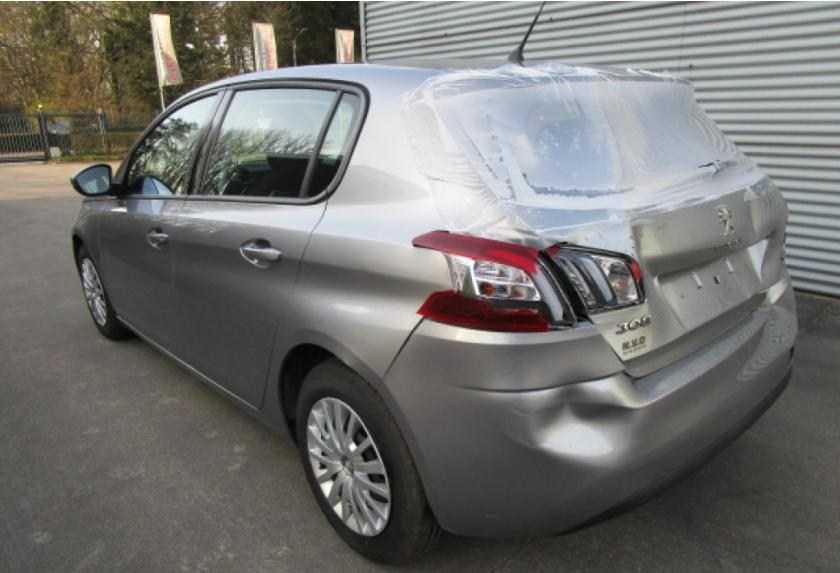Back-bumper: (377, 246, 797, 539)
Back-door: (172, 77, 371, 411)
Back-wheel: (296, 356, 451, 562)
Back-window: (202, 88, 337, 197), (308, 93, 361, 196)
Back-windshield: (432, 75, 765, 230)
Fender: (70, 195, 120, 315)
Front-door: (97, 84, 230, 354)
Front-wheel: (78, 242, 138, 341)
Front-window: (124, 93, 219, 194)
Mirror: (70, 153, 134, 197)
Quarter-panel: (262, 198, 527, 430)
Rocker-panel: (117, 315, 297, 447)
Roof: (283, 58, 609, 74)
Tail-light: (412, 230, 594, 332), (545, 244, 645, 313)
Trunk: (422, 67, 788, 379), (432, 75, 764, 231)
